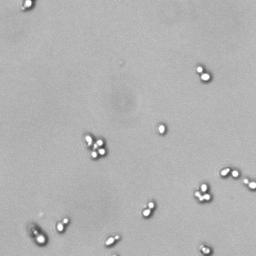budding: (217, 165, 240, 180), (30, 227, 48, 246), (54, 215, 71, 233), (196, 65, 211, 82), (142, 200, 156, 218), (242, 176, 256, 190), (105, 234, 120, 247)
cluster: (82, 132, 108, 161), (192, 182, 214, 206)
individual: (198, 243, 217, 256), (156, 123, 167, 136)
